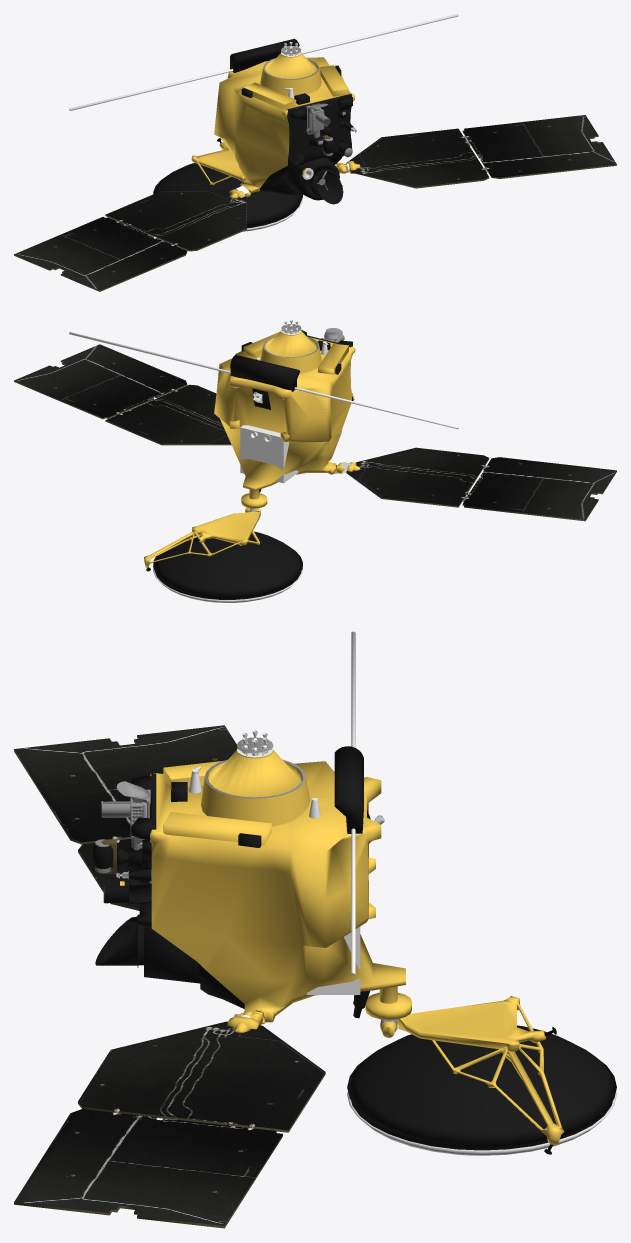
The picture shows the model from 3 angles, top to bottom: view 1: azimuth 30°, elevation 25°; view 2: azimuth 150°, elevation 25°; view 3: azimuth 270°, elevation 25°; orthographic projection. The views are drawn at different scales.
Parts seen in each view (by area): view 1: foil_gold; view 2: foil_gold; view 3: foil_gold.
Boxes of the visible parts, x1,y1,x2,y2 form: foil_gold: (14,14,616,291); foil_gold: (14,320,616,602); foil_gold: (14,631,616,1228).
Bounding box in the file's own units: 1318 × 488 × 671.
8 materials, 4 textured.
